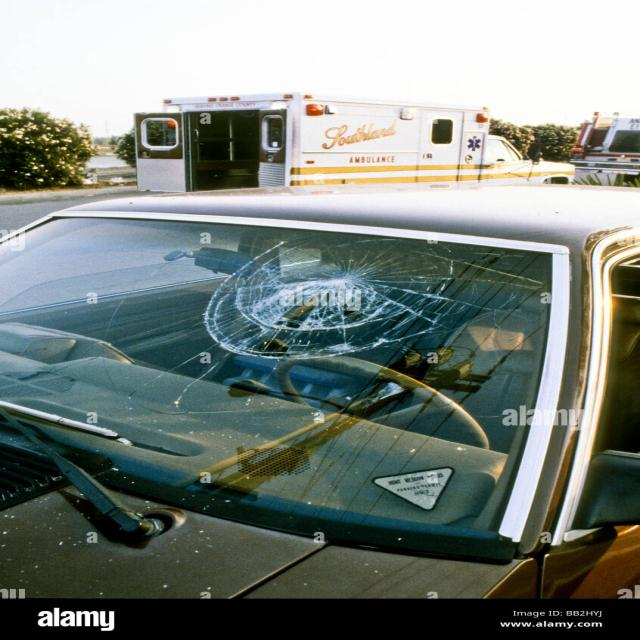crack: (187, 227, 549, 368)
